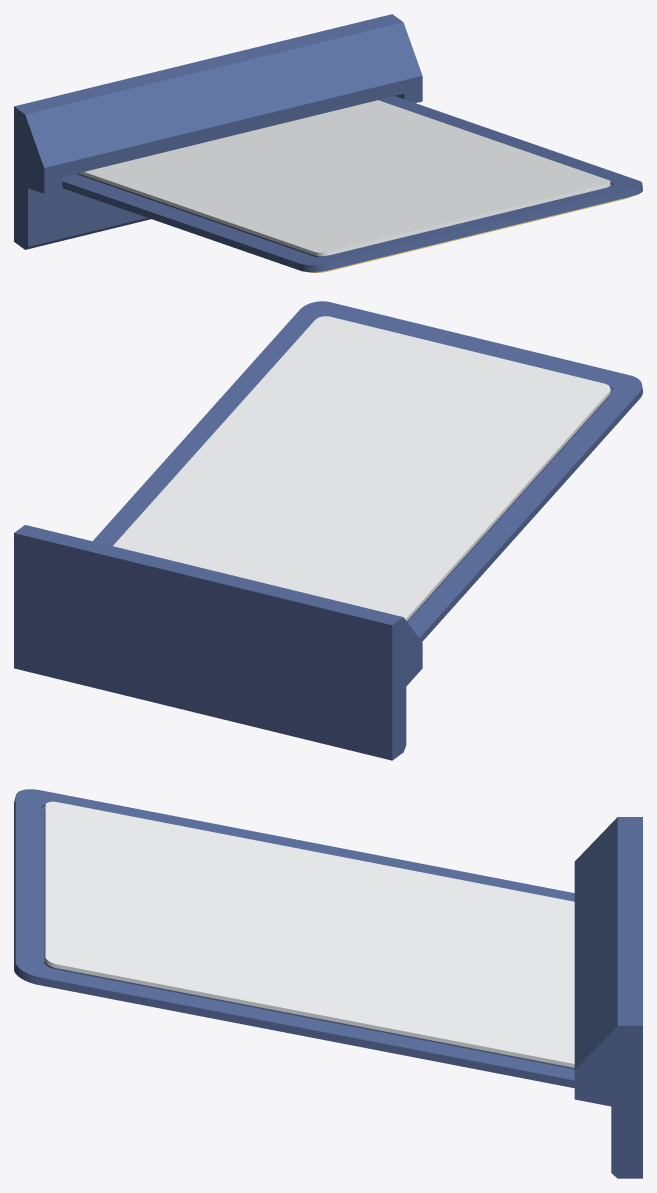
Rendered from leshem-yichud-stand-preview.glb.
3 views of the same model, one above another, from view 1: azimuth 30°, elevation 25°; view 2: azimuth 150°, elevation 25°; view 3: azimuth 270°, elevation 25° (orthographic). The views are drawn at different scales.
Visible parts, largest first — view 1: mirror, stand, navy, gold; view 2: mirror, stand, navy; view 3: mirror, navy, stand.
Part boxes in pixels (bbox=[...]): mirror: bbox=[78, 100, 610, 256]; stand: bbox=[14, 14, 422, 249]; navy: bbox=[62, 96, 642, 271]; gold: bbox=[308, 196, 631, 272]; mirror: bbox=[113, 316, 610, 620]; stand: bbox=[14, 525, 422, 760]; navy: bbox=[93, 301, 642, 641]; mirror: bbox=[44, 801, 574, 1067]; navy: bbox=[14, 789, 574, 1088]; stand: bbox=[574, 817, 642, 1178].
Bounding box in the file's own units: 117 × 51.02 × 149.
